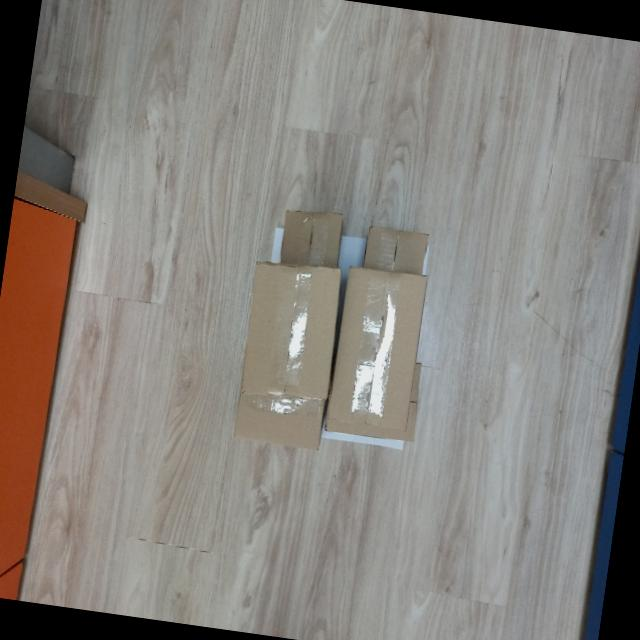box: (324, 262, 434, 436), (232, 254, 346, 411)
